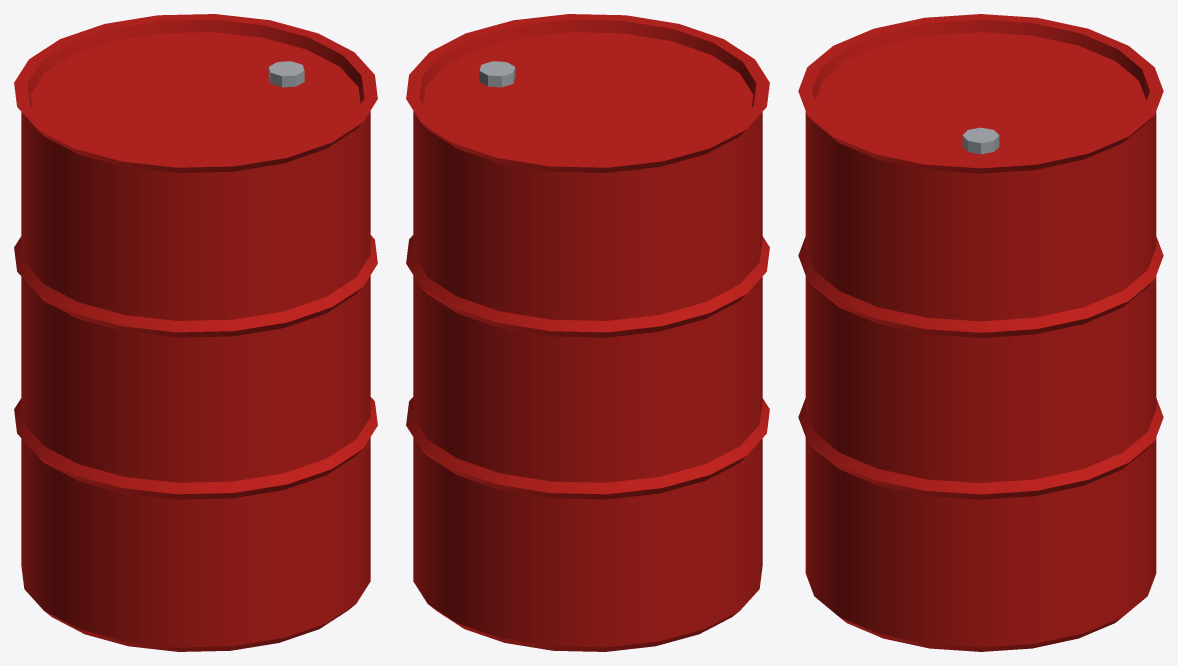
Rendered from plant.store.barrel_red.glb.
3 views of the same model, side by side, from view 1: azimuth 30°, elevation 25°; view 2: azimuth 150°, elevation 25°; view 3: azimuth 270°, elevation 25° (orthographic).
Visible parts, largest first — view 1: main__hazard_red, main__steel_galvanised; view 2: main__hazard_red, main__steel_galvanised; view 3: main__hazard_red, main__steel_galvanised.
Part boxes in pixels (x1=…): main__hazard_red: x1=14, y1=14, x2=377, y2=651; main__steel_galvanised: x1=268, y1=61, x2=304, y2=87; main__hazard_red: x1=406, y1=14, x2=769, y2=651; main__steel_galvanised: x1=479, y1=61, x2=515, y2=87; main__hazard_red: x1=798, y1=14, x2=1163, y2=651; main__steel_galvanised: x1=962, y1=127, x2=999, y2=154.
Size of the model in its own units: 0.594 by 0.88 by 0.594.
